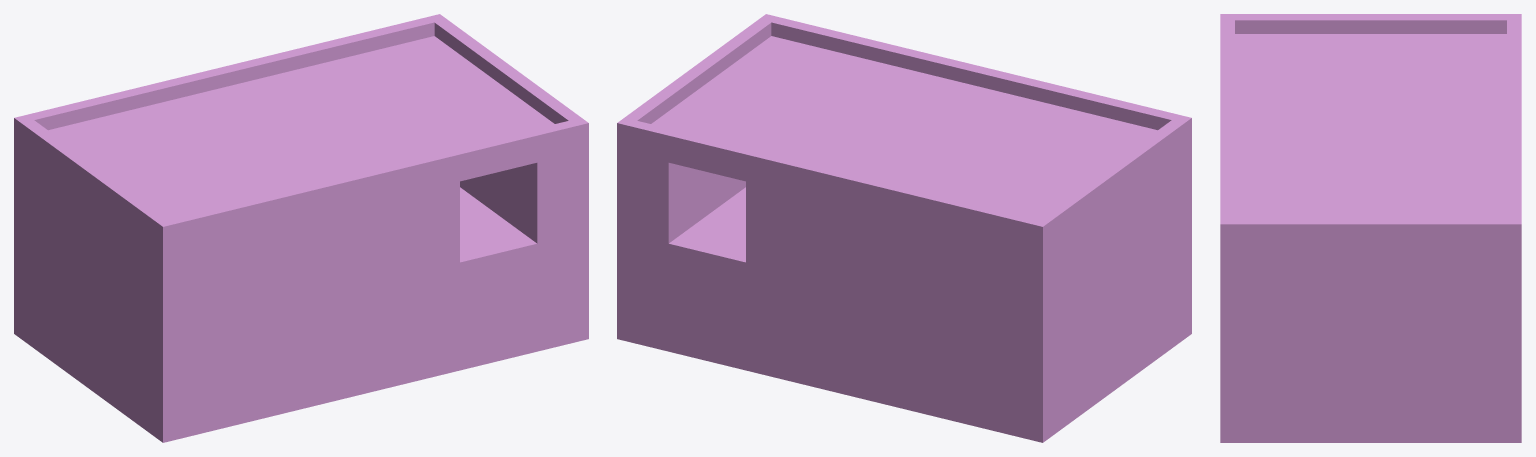
File: Building A.fbx
3 views of the same model, side by side, from view 1: azimuth 30°, elevation 25°; view 2: azimuth 150°, elevation 25°; view 3: azimuth 270°, elevation 25° (orthographic).
Parts seen in each view (by area): view 1: BuildingA; view 2: BuildingA; view 3: BuildingA.
Part boxes in pixels (x1=…): BuildingA: x1=14, y1=14, x2=588, y2=442; BuildingA: x1=617, y1=14, x2=1191, y2=442; BuildingA: x1=1220, y1=14, x2=1521, y2=442.
Size of the model in its own units: 3300 by 1600 by 2000.
